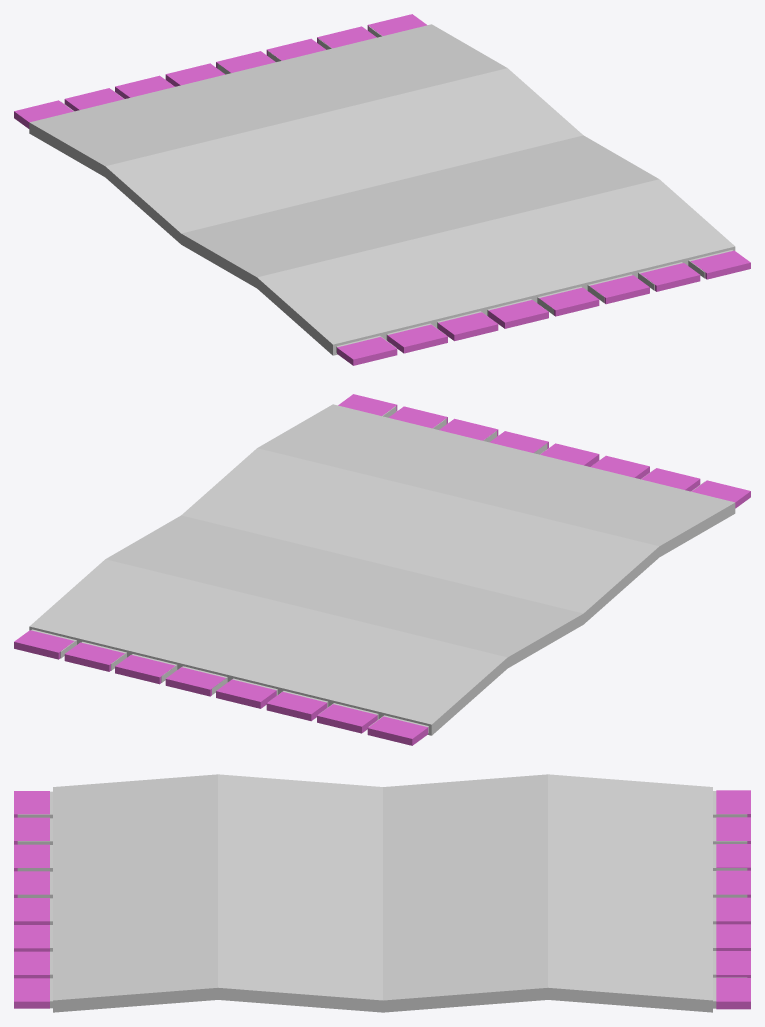
Rendered from BLANKET.glb.
3 renders of one model, top to bottom at view 1: azimuth 30°, elevation 25°; view 2: azimuth 150°, elevation 25°; view 3: azimuth 270°, elevation 25°, orthographic. The views are drawn at different scales.
Parts seen in each view (by area): view 1: BLANKET; view 2: BLANKET; view 3: BLANKET.
Part boxes in pixels (box(x1,y1,x2,y2)): BLANKET: box(14, 14, 750, 365); BLANKET: box(14, 394, 750, 745); BLANKET: box(14, 774, 750, 1012).
Size of the model in its own units: 10.44 by 0.5662 by 15.23.
